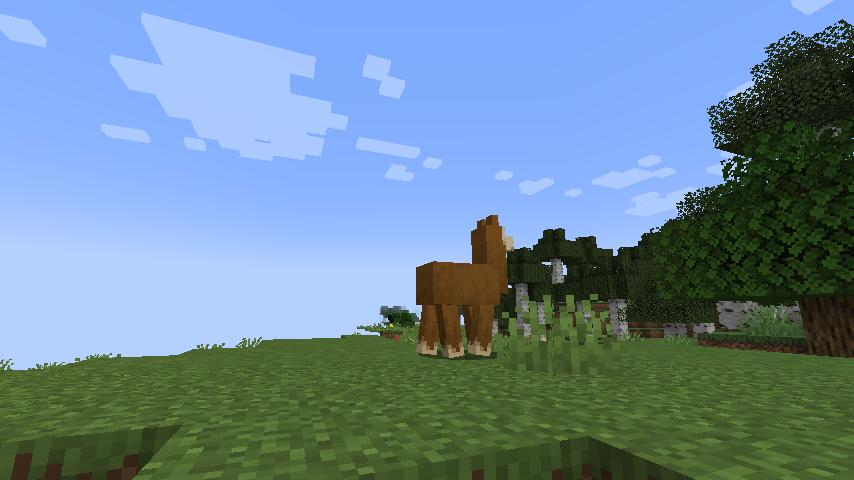llama: (412, 212, 517, 357)
